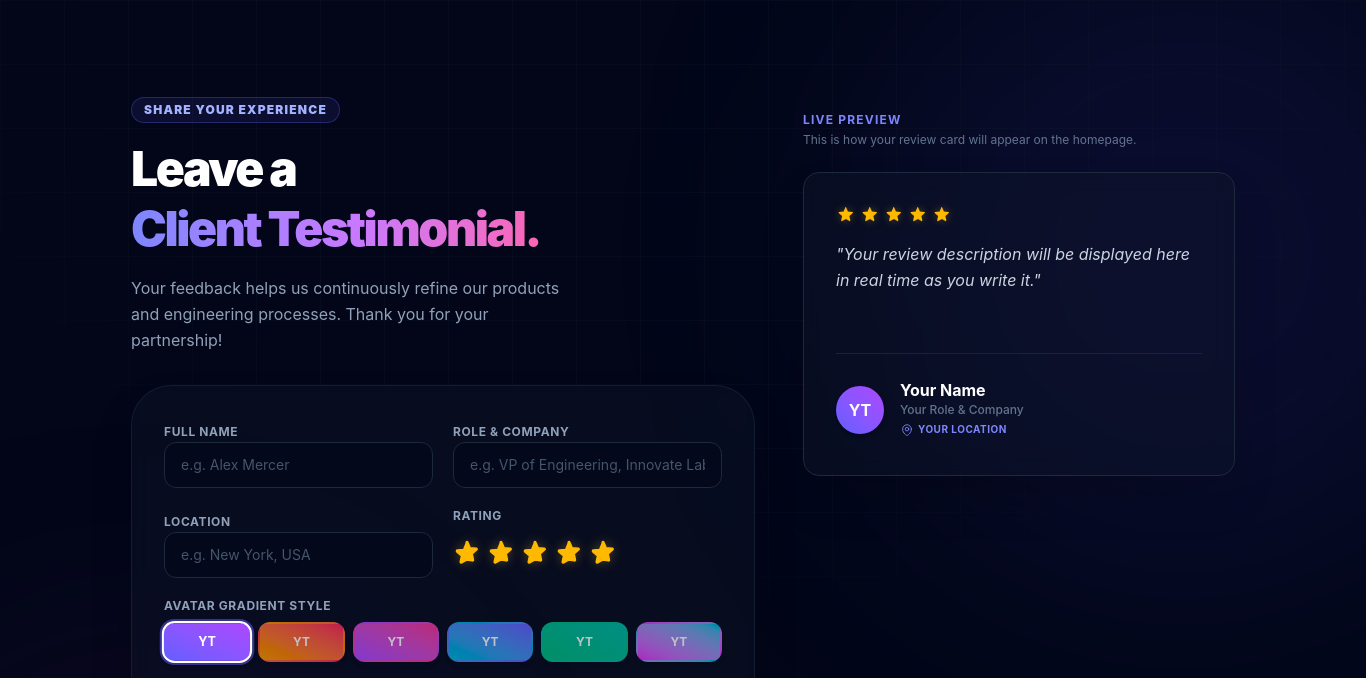
Test: submitting form sends data to firestore
In the field labelled "Full Name": [298, 465] box [164,442,433,488], type "Alex Mercer"
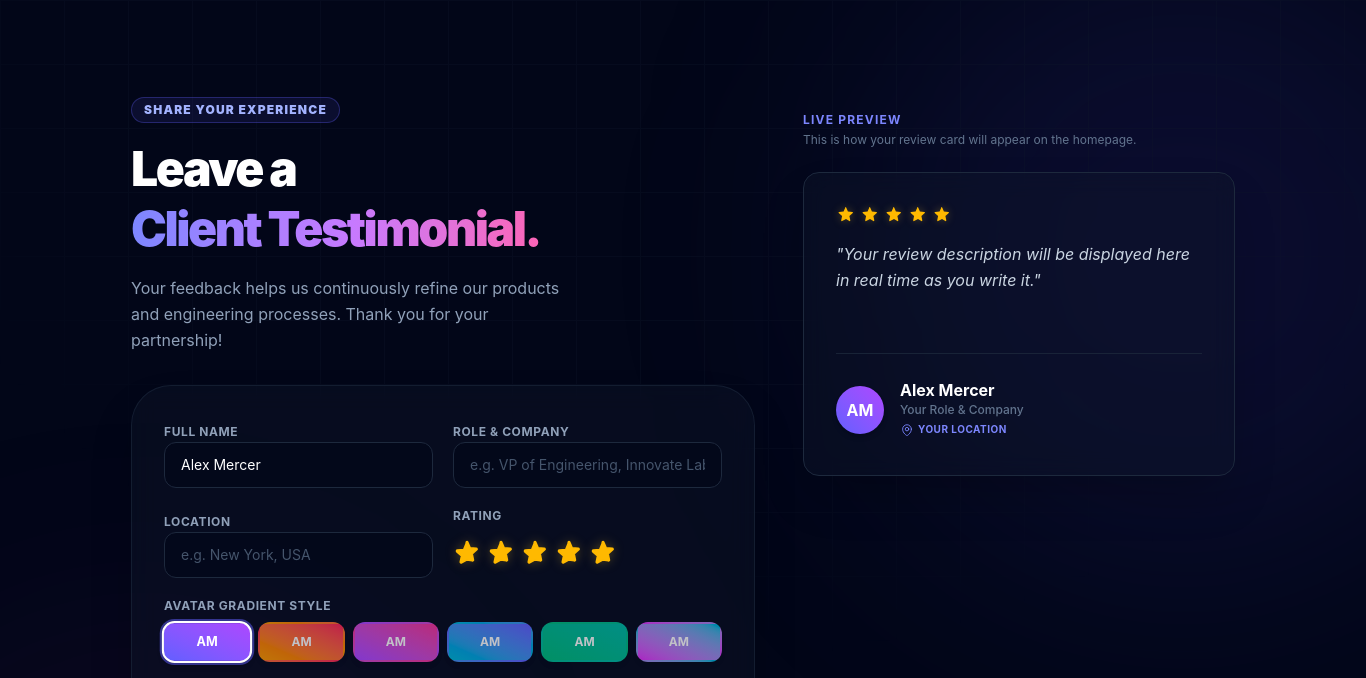
In the field labelled "Role & Company": [588, 465] box [453,442,722,488], type "VP of Engineering"
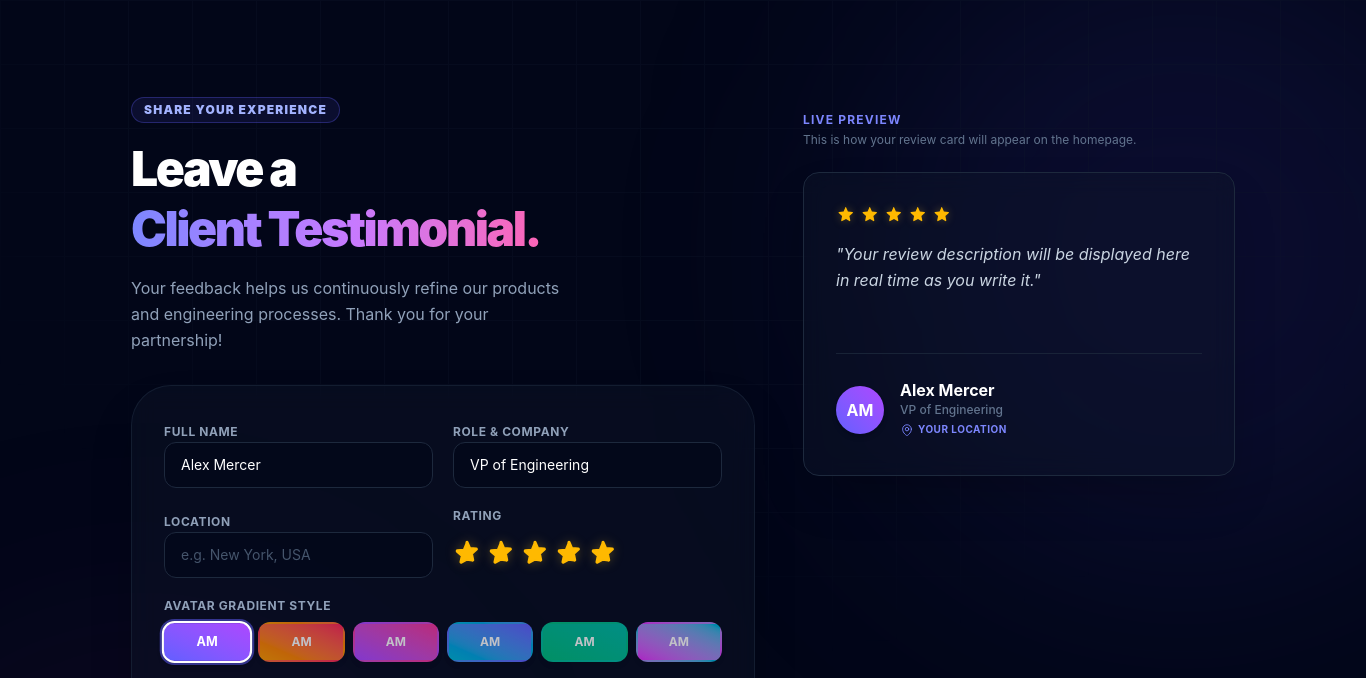
In the field labelled "Location": [298, 555] box [164,532,433,578], type "New York, USA"
(page scrolled)
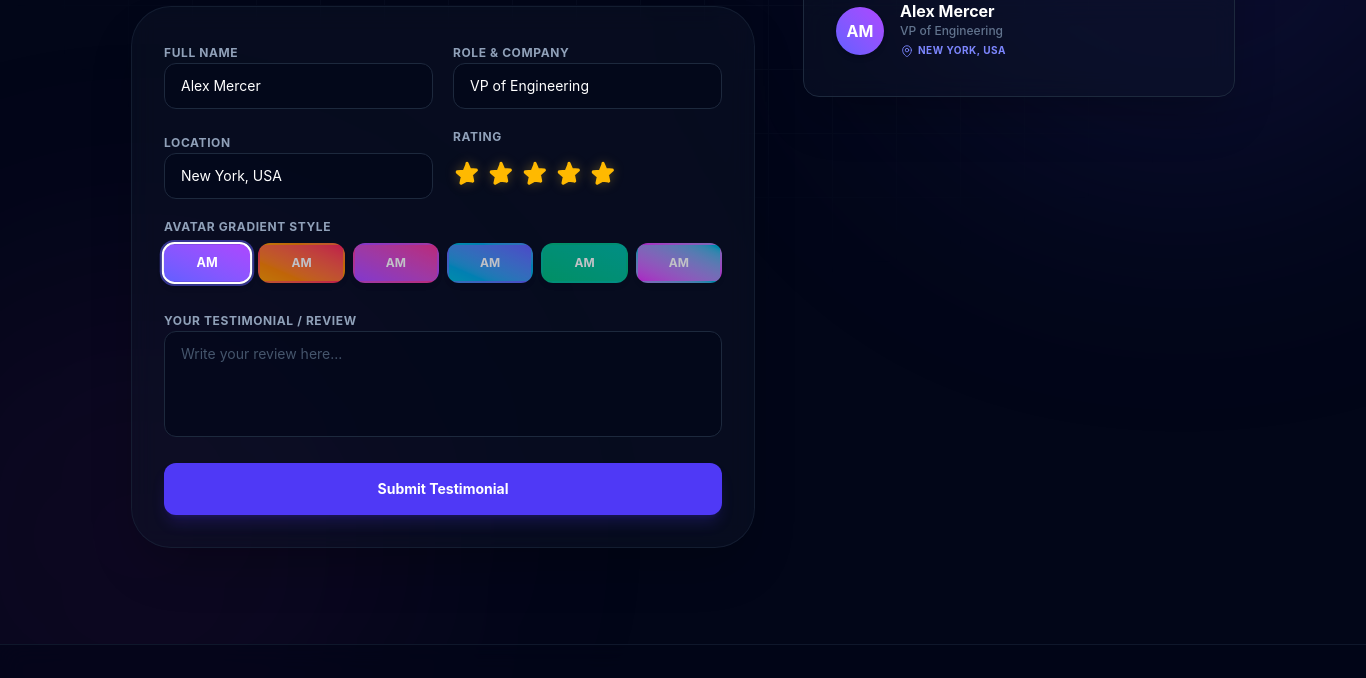
In the text box labelled "Your Testimonial / Review": [443, 384] box [164,331,722,437], type "Absolutely outstanding work!"
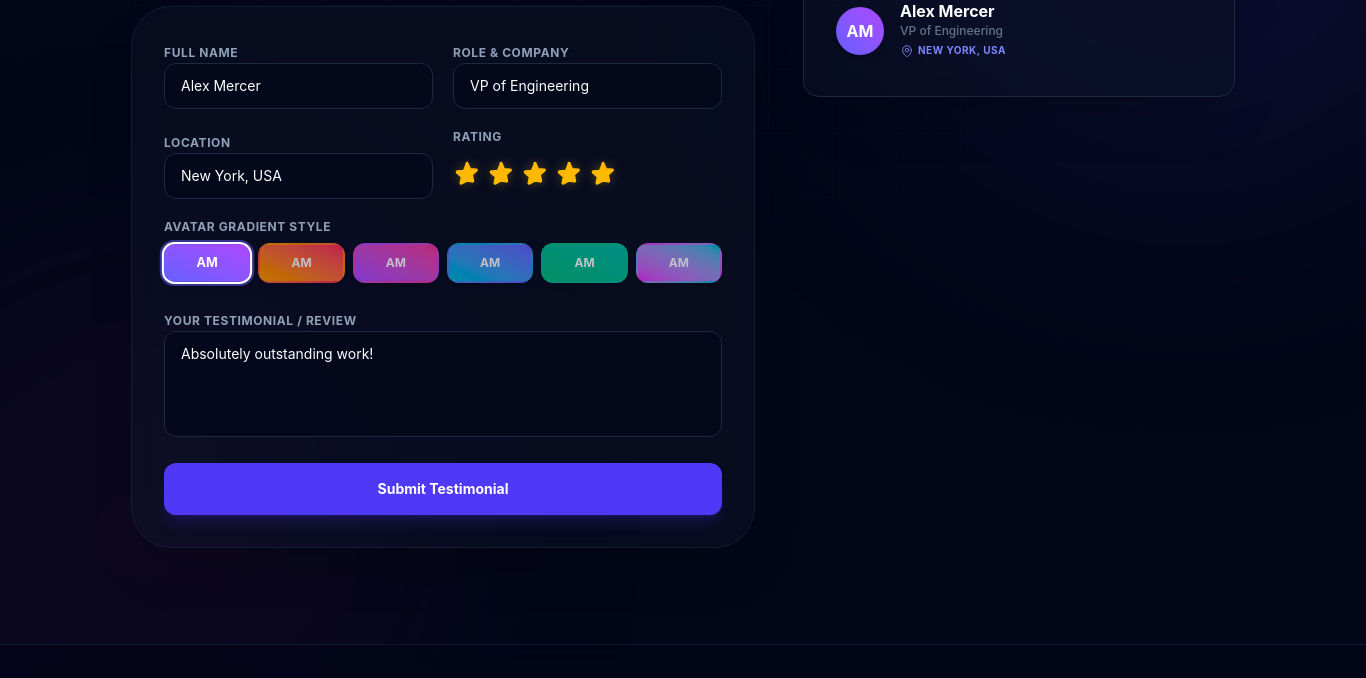
Click the button "Submit Testimonial": [443, 489] box [164,463,722,515]
(page scrolled)
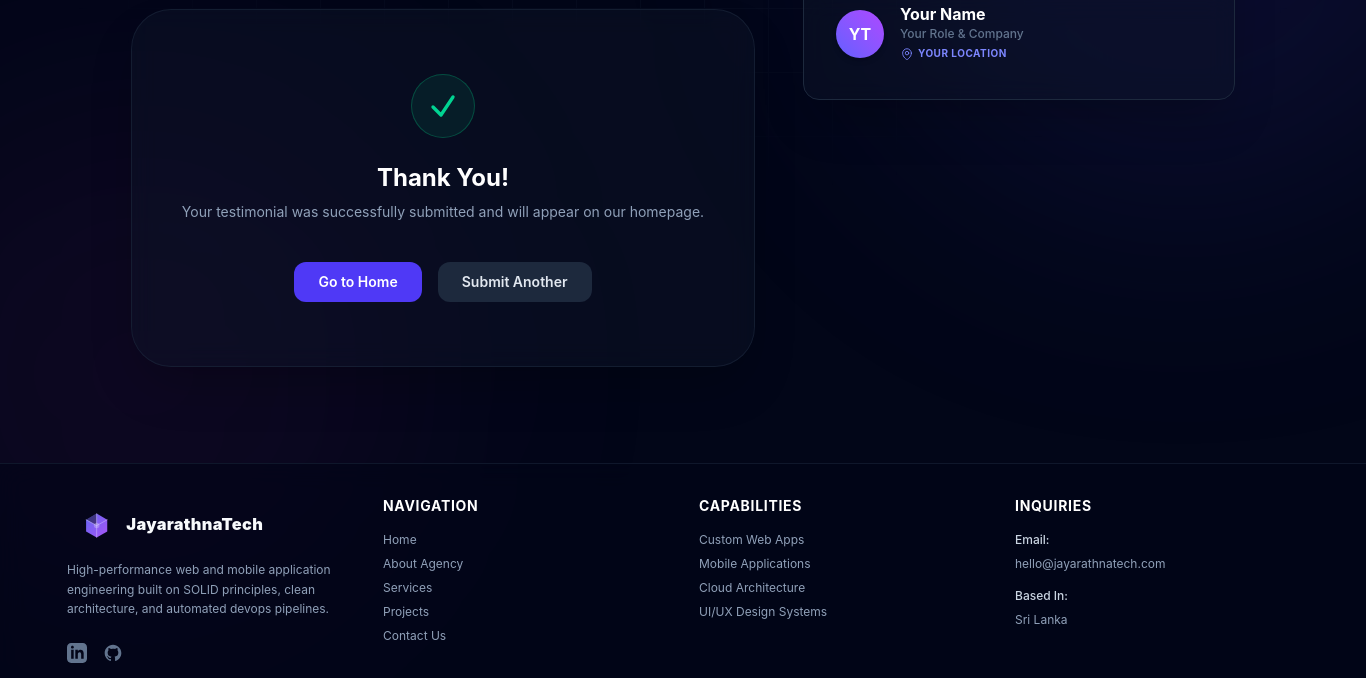
Now the heading "Thank You!" is shown, box [377,163,509,192]
